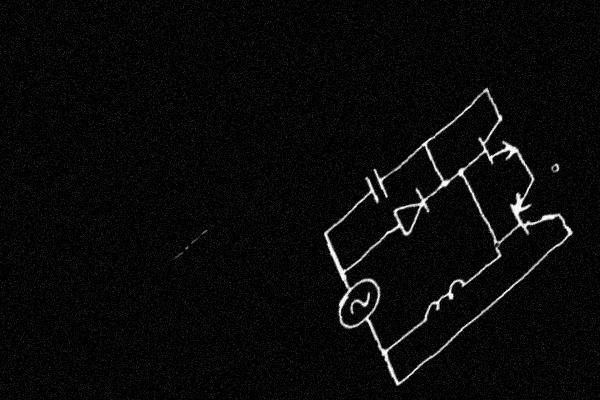capacitor: (359, 160, 394, 211)
diode: (387, 179, 440, 243)
inductor: (410, 269, 474, 330)
signal: (327, 266, 389, 343)
